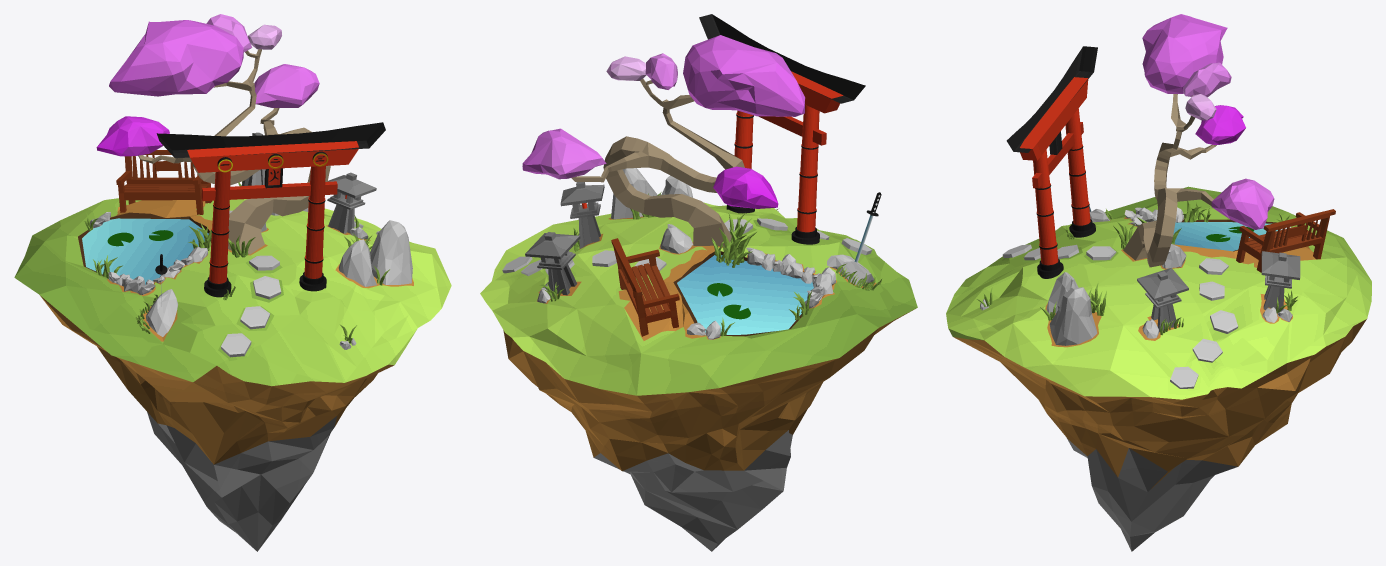
File: island.854296e1.glb
3 views of the same model, side by side, from view 1: azimuth 30°, elevation 25°; view 2: azimuth 150°, elevation 25°; view 3: azimuth 270°, elevation 25° (orthographic). The views are drawn at different scales.
Parts seen in each view (by area): view 1: island_top, islandBottom, gate, leaf, trunk, bigRocks, bench, rocks, pathTop, grass, lanternBottom, lanternTop; view 2: island_top, islandBottom, leaf, trunk, gate, rocks, bench, grass, lanternBottom, lanternTop, pathTop, bigRocks (+2 smaller); view 3: island_top, islandBottom, leaf, gate, trunk, bench, pathTop, bigRocks, lanternTop, grass, rocks, lanternBottom (+1 smaller).
Boxes of the visible parts, box(x1,y1,x2,y2) form: island_top: box(14, 198, 451, 386); islandBottom: box(40, 295, 393, 551); gate: box(156, 122, 385, 297); leaf: box(96, 14, 319, 156); trunk: box(138, 49, 330, 254); bigRocks: box(338, 220, 412, 286); bench: box(116, 150, 212, 214); rocks: box(90, 212, 368, 349); pathTop: box(221, 208, 378, 354); grass: box(84, 181, 389, 343); lanternBottom: box(241, 169, 365, 233); lanternTop: box(252, 132, 376, 198); island_top: box(480, 202, 917, 395); islandBottom: box(503, 310, 912, 551); leaf: box(522, 35, 805, 208); trunk: box(571, 78, 744, 247); gate: box(699, 14, 865, 244); rocks: box(537, 224, 873, 339); bench: box(611, 238, 679, 336); grass: box(539, 192, 881, 336); lanternBottom: box(537, 201, 600, 296); lanternTop: box(525, 182, 604, 259); pathTop: box(503, 218, 871, 273); bigRocks: box(611, 168, 692, 219); island_top: box(946, 186, 1371, 399); islandBottom: box(953, 319, 1366, 551); leaf: box(1142, 14, 1274, 229); gate: box(1006, 46, 1097, 278); trunk: box(1123, 94, 1216, 267); bench: box(1236, 209, 1335, 272); pathTop: box(1003, 244, 1237, 387); bigRocks: box(1046, 272, 1097, 345); lanternTop: box(1137, 251, 1300, 300); grass: box(976, 200, 1297, 335); rocks: box(980, 207, 1292, 338); lanternBottom: box(1145, 275, 1291, 332).
Bounding box in the file's own units: 15.23 × 19.95 × 15.29.
3 materials, 3 textured.
